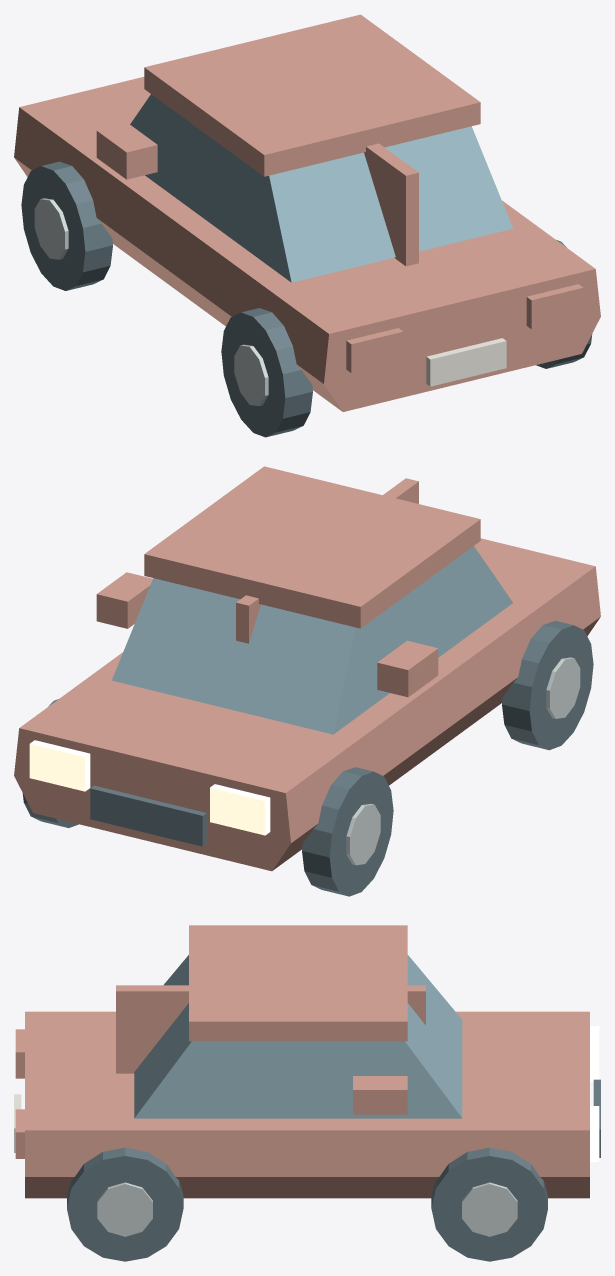
The model's file is remaster_car_3.glb.
3 renders of one model, top to bottom at view 1: azimuth 30°, elevation 25°; view 2: azimuth 150°, elevation 25°; view 3: azimuth 270°, elevation 25°, orthographic. The views are drawn at different scales.
Visible parts, largest first — view 1: remaster_car_3 red, remaster_car_3 glass, remaster_car_3 dark, remaster_car_3 metal, remaster_car_3 white; view 2: remaster_car_3 red, remaster_car_3 glass, remaster_car_3 dark, remaster_car_3 warm, remaster_car_3 metal; view 3: remaster_car_3 red, remaster_car_3 glass, remaster_car_3 dark, remaster_car_3 metal, remaster_car_3 warm.
Part boxes in pixels (x1,y1,x2,y2): remaster_car_3 red: (14,14,600,411); remaster_car_3 glass: (130,94,512,282); remaster_car_3 dark: (21,161,592,437); remaster_car_3 metal: (34,198,268,405); remaster_car_3 white: (426,338,506,386); remaster_car_3 red: (14,466,600,871); remaster_car_3 glass: (112,546,512,734); remaster_car_3 dark: (22,620,593,896); remaster_car_3 warm: (29,740,270,835); remaster_car_3 metal: (346,657,580,865); remaster_car_3 red: (15,925,589,1198); remaster_car_3 glass: (134,955,462,1118); remaster_car_3 dark: (67,1079,600,1261); remaster_car_3 metal: (97,1182,517,1236); remaster_car_3 warm: (590,1026,599,1161).
Size of the model in its own units: 1.82 by 1.33 by 3.22.
